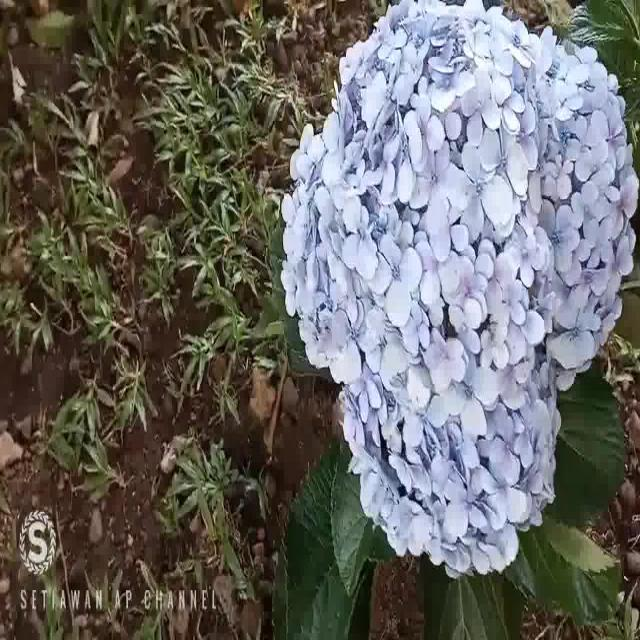Flower: (279, 3, 637, 576)
